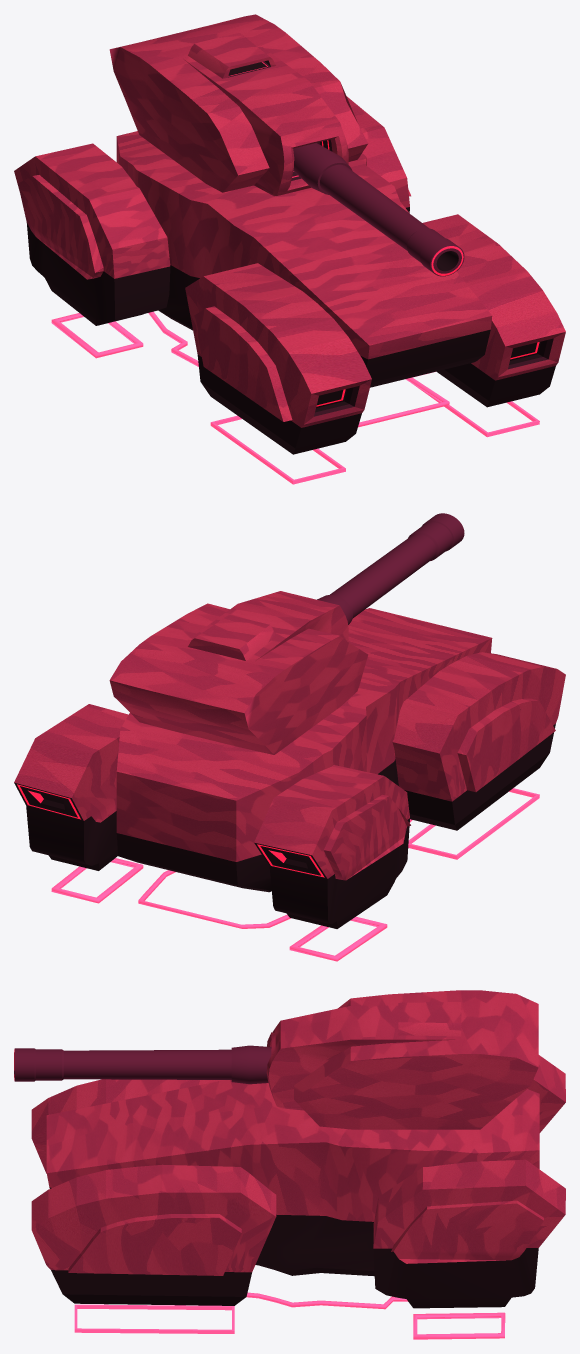
3 views of the same model, one above another, from view 1: azimuth 30°, elevation 25°; view 2: azimuth 150°, elevation 25°; view 3: azimuth 270°, elevation 25° (orthographic). The views are drawn at different scales.
Visible parts, largest first — view 1: Cube.001, Cube, Plane.001, 03fe3cab-dccc-4361-86fe-1b278c73d12b.002, Plane, Plane.004, 03fe3cab-dccc-4361-86fe-1b278c73d12b.001; view 2: Cube.001, Cube, Plane.001, 03fe3cab-dccc-4361-86fe-1b278c73d12b.002, 03fe3cab-dccc-4361-86fe-1b278c73d12b.001, Plane.004; view 3: Cube.001, Cube, Plane, 03fe3cab-dccc-4361-86fe-1b278c73d12b.001, Plane.004, Plane.001, 03fe3cab-dccc-4361-86fe-1b278c73d12b.002.
Boxes of the visible parts, x1,y1,x2,y2 form: Cube.001: (116, 131, 492, 387); Cube: (109, 14, 464, 276); Plane.001: (185, 263, 371, 454); 03fe3cab-dccc-4361-86fe-1b278c73d12b.002: (14, 143, 170, 325); Plane: (422, 214, 565, 407); Plane.004: (51, 311, 539, 484); 03fe3cab-dccc-4361-86fe-1b278c73d12b.001: (346, 96, 410, 212); Cube.001: (116, 608, 492, 892); Cube: (109, 513, 464, 754); Plane.001: (392, 652, 565, 830); 03fe3cab-dccc-4361-86fe-1b278c73d12b.002: (254, 765, 410, 928); 03fe3cab-dccc-4361-86fe-1b278c73d12b.001: (14, 704, 128, 870); Plane.004: (51, 788, 539, 961); Cube.001: (46, 1080, 539, 1276); Cube: (14, 990, 538, 1129); Plane: (31, 1164, 276, 1305); 03fe3cab-dccc-4361-86fe-1b278c73d12b.001: (373, 1159, 565, 1308); Plane.004: (74, 1292, 505, 1339); Plane.001: (31, 1079, 224, 1173); 03fe3cab-dccc-4361-86fe-1b278c73d12b.002: (528, 1055, 565, 1132).
Bounding box in the file's own units: 6.29 × 5.16 × 9.81.
7 materials, 1 textured.
